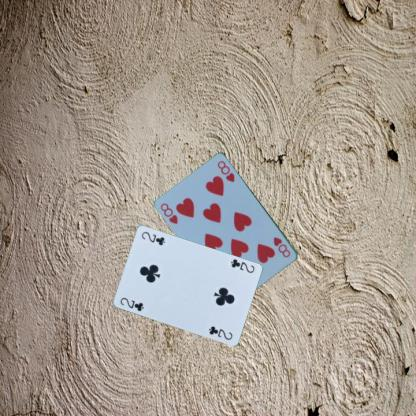2c: (117, 294, 145, 312), (228, 256, 255, 274)
8h: (271, 234, 292, 259), (158, 200, 179, 225)
